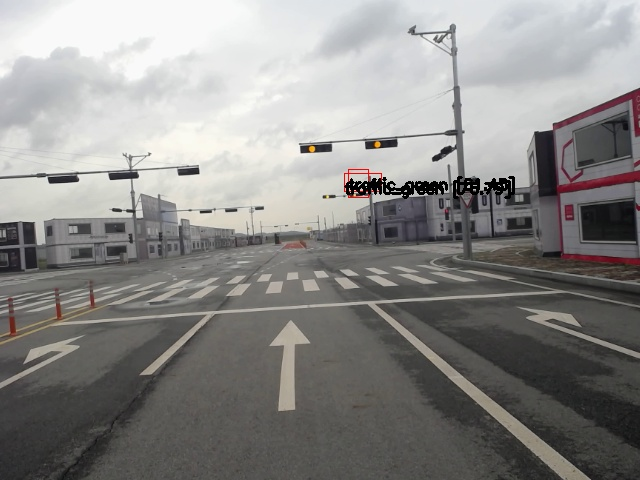orange_4: (299, 144, 333, 153), (366, 140, 398, 149)
